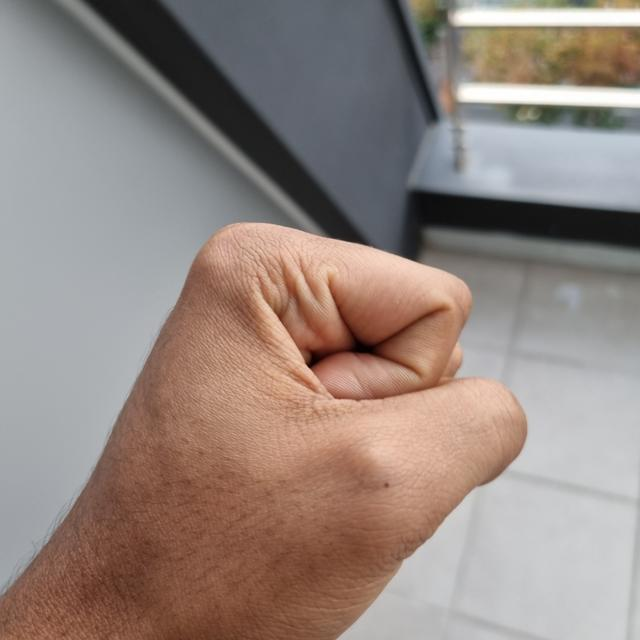Rock: (0, 225, 521, 639)
